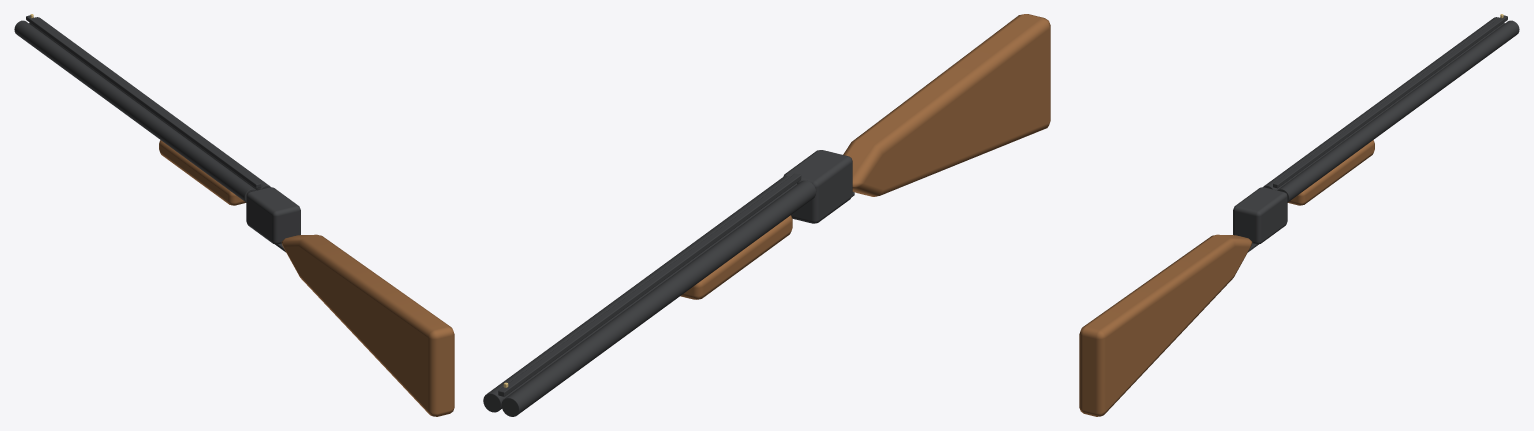
The model's file is double_barrel.glb.
3 views of the same model, side by side, from view 1: azimuth 30°, elevation 25°; view 2: azimuth 150°, elevation 25°; view 3: azimuth 330°, elevation 25° (orthographic). The views are drawn at different scales.
Visible parts, largest first — view 1: Stock, Barrel, Action, Rib, Barrel.001, Forend; view 2: Stock, Barrel, Rib, Action, Barrel.001, Forend; view 3: Stock, Barrel.001, Action, Rib, Barrel, Forend.
Part boxes in pixels (x1,y1,x2,y2): Stock: [281, 234, 454, 416]; Barrel: [14, 20, 256, 202]; Action: [246, 187, 300, 244]; Rib: [26, 15, 260, 188]; Barrel.001: [29, 17, 270, 190]; Forend: [159, 140, 245, 205]; Stock: [843, 14, 1050, 196]; Barrel: [501, 180, 816, 416]; Rib: [498, 173, 801, 396]; Action: [783, 150, 852, 223]; Barrel.001: [483, 176, 797, 412]; Forend: [680, 215, 792, 299]; Stock: [1079, 234, 1252, 416]; Barrel.001: [1277, 20, 1519, 202]; Action: [1233, 187, 1287, 244]; Rib: [1273, 15, 1507, 188]; Barrel: [1263, 17, 1504, 190]; Forend: [1288, 140, 1374, 205].
Bounding box in the file's own units: 0.044 × 0.1497 × 1.12.
